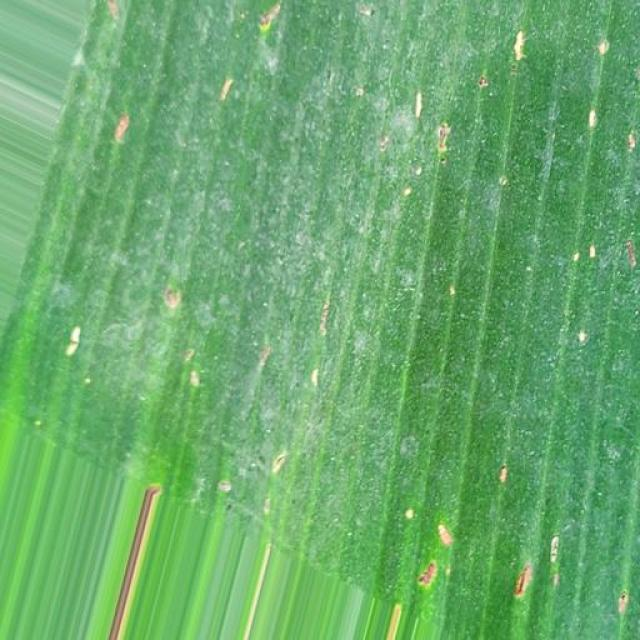Black_rot: (54, 16, 640, 640)
